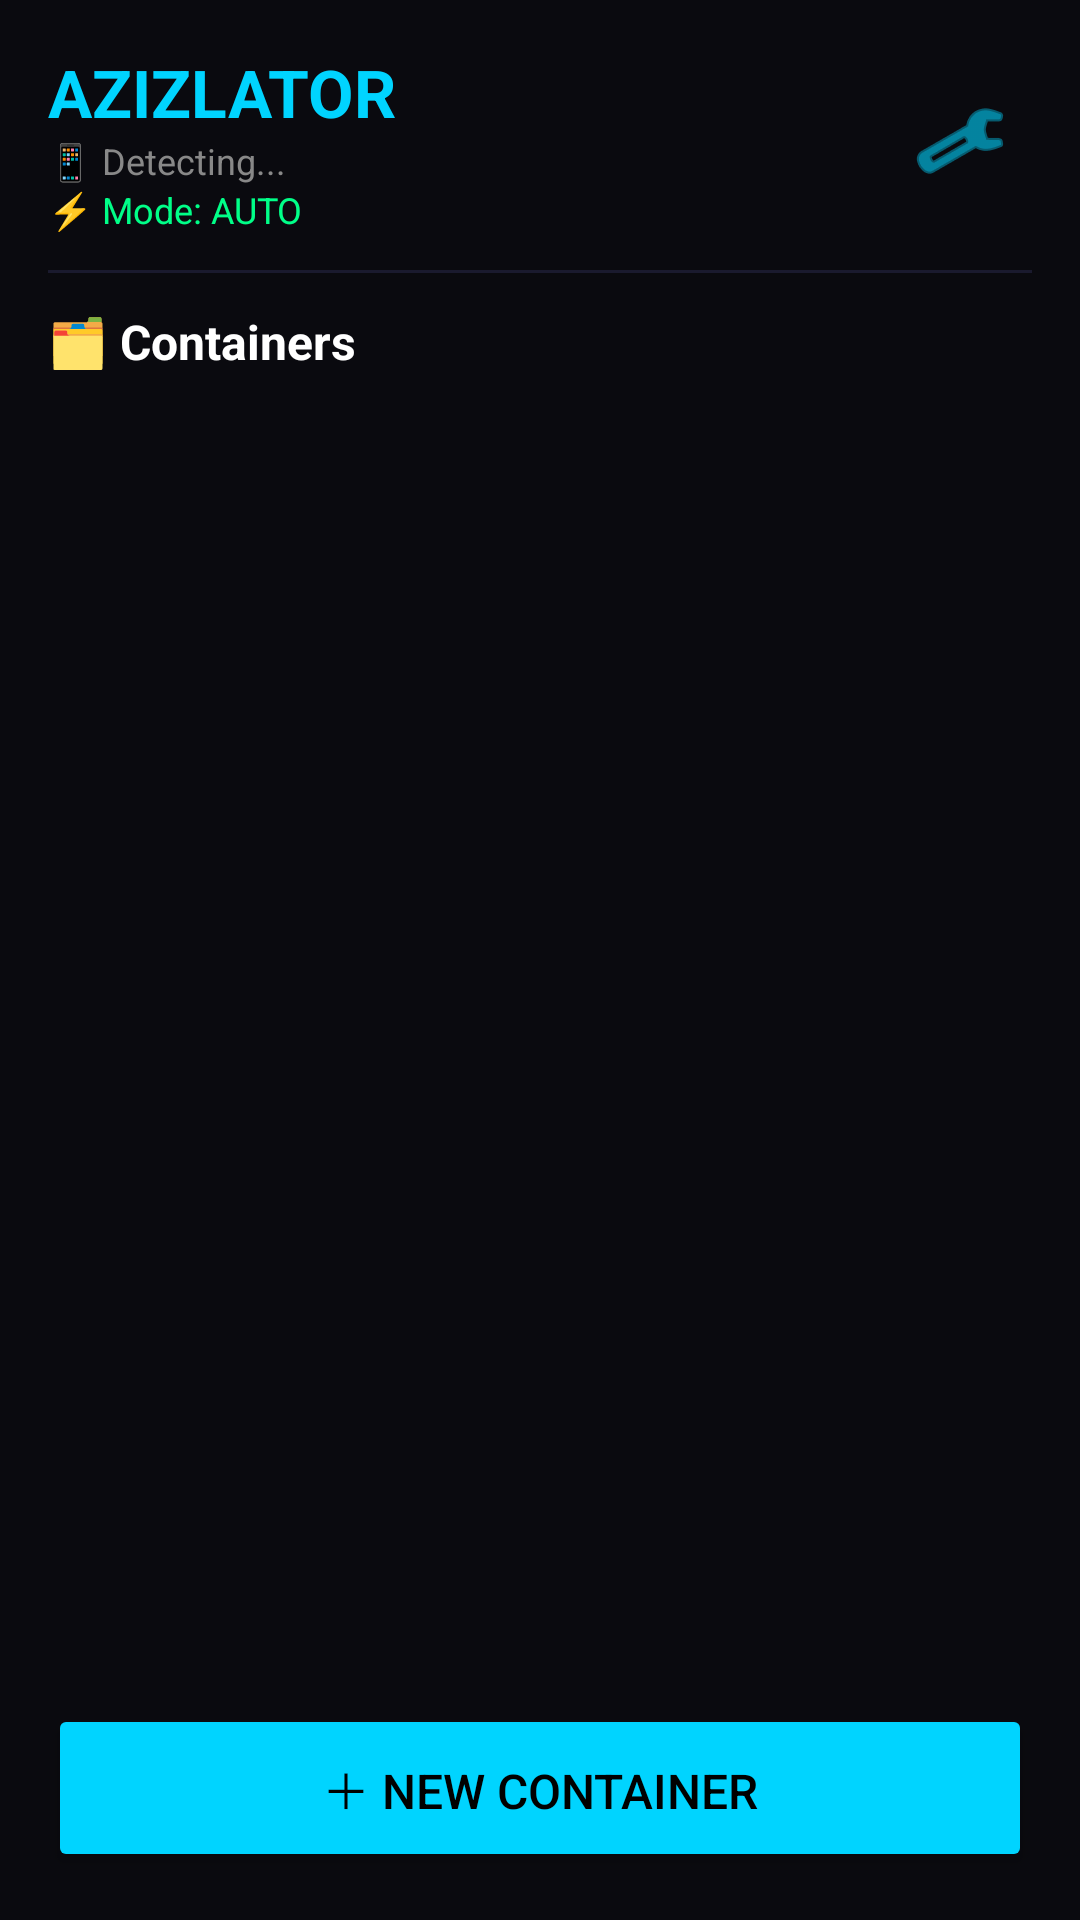

Where icons sit on this 1080 × 1920 app screen, as (x1, y1, x2, y2):
preferences: (917, 108, 1003, 174)
